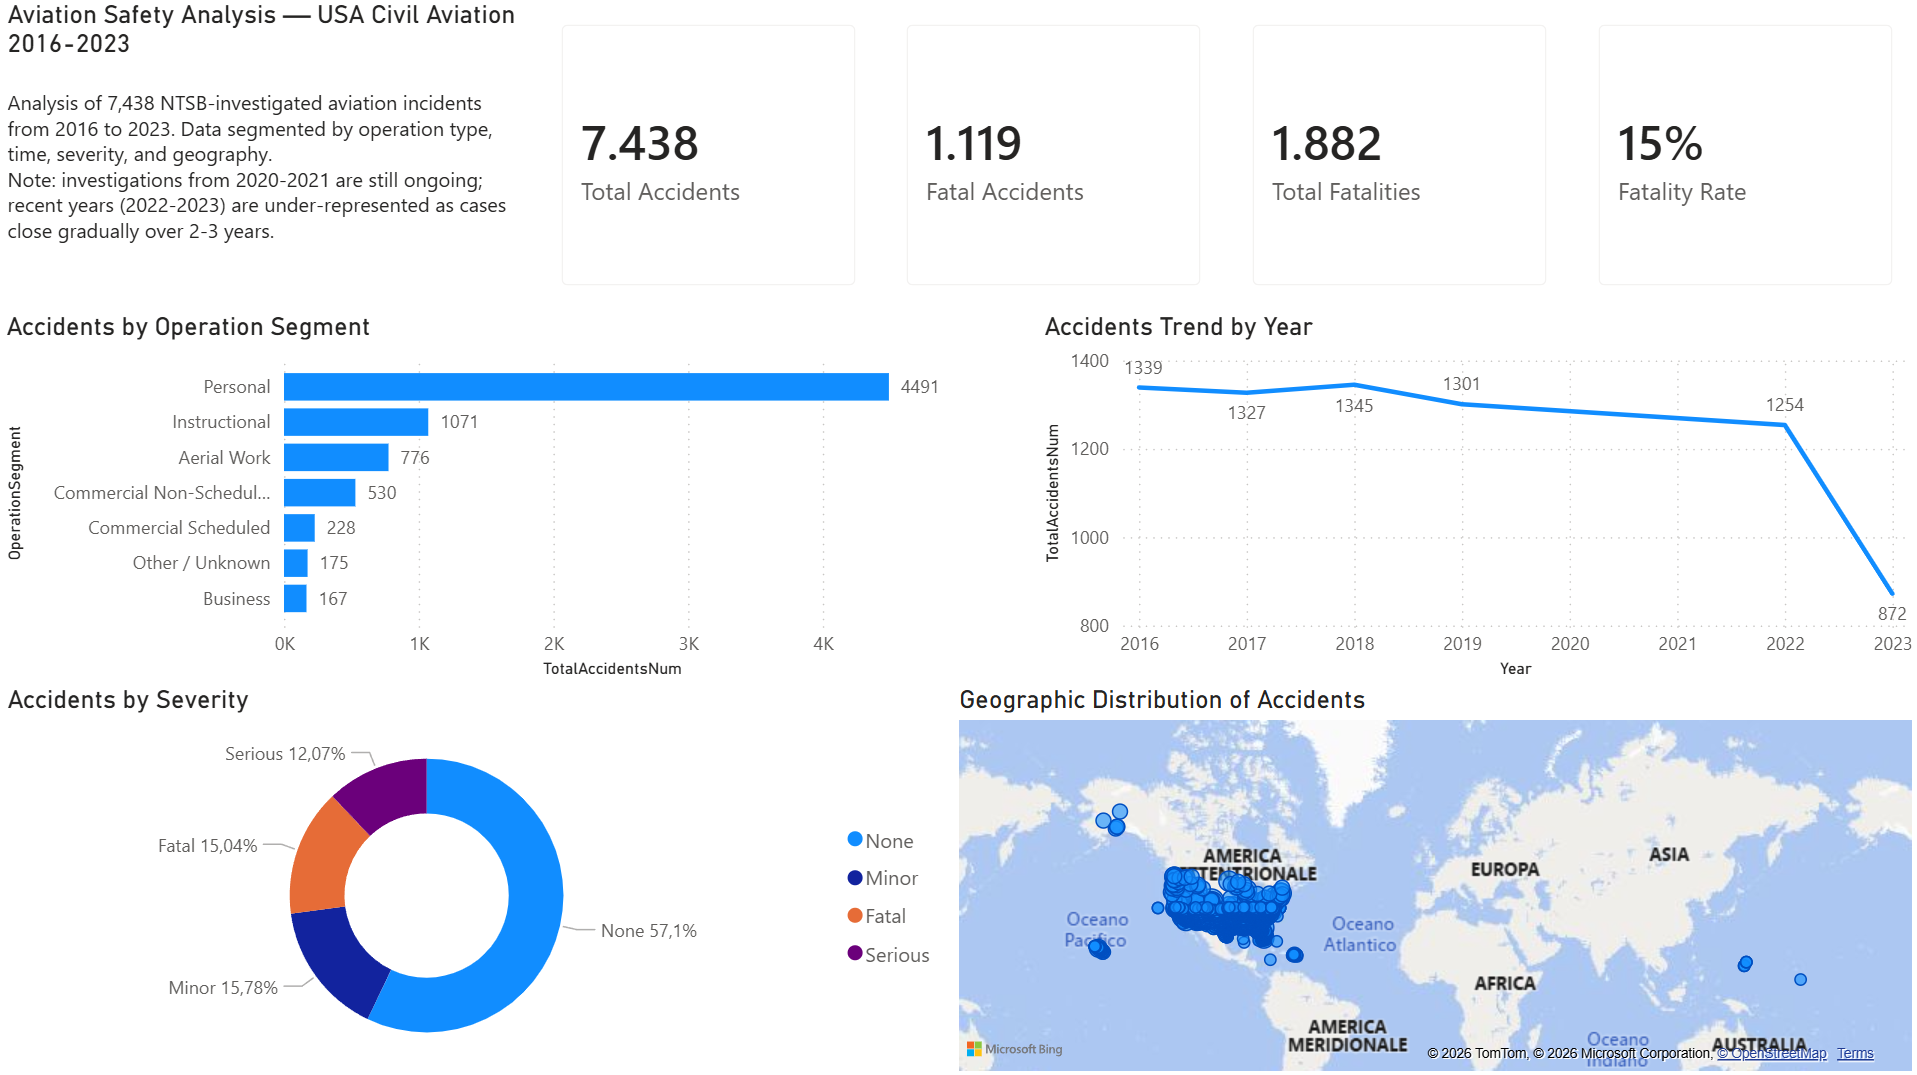

The dashboard page shown, as its layout file describes it:
{"tool":"powerbi","page":{"name":"Pagina 1","canvas":[1280,720],"ordinal":0},"visuals":[{"type":"cardVisual","fields":{"Data":["aviation_clean.Total Accidents"]},"box":[358,0.2,230.3,208.1],"z":0},{"type":"cardVisual","fields":{"Data":["aviation_clean.Fatal Accidents"]},"box":[588.3,0.2,230.3,208.1],"z":1000},{"type":"cardVisual","fields":{"Data":["aviation_clean.Total Fatalities"]},"box":[818.7,0,230.3,208.1],"z":2000},{"type":"cardVisual","fields":{"Data":["aviation_clean.Fatality Rate"]},"box":[1049.7,0,230.3,208.1],"z":3000},{"type":"clusteredBarChart","title":"Accidents by Operation Segment","fields":{"Category":["aviation_clean.OperationSegment"],"Y":["aviation_clean.TotalAccidentsNum"]},"box":[0,208.1,640,248.7],"z":4000},{"type":"lineChart","title":"Accidents Trend by Year","fields":{"Category":["aviation_clean.Year"],"Y":["aviation_clean.TotalAccidentsNum"]},"box":[691.7,208.1,588.3,248.7],"z":5000},{"type":"donutChart","title":"Accidents by Severity","fields":{"Category":["aviation_clean.HighestInjuryLevel"],"Y":["aviation_clean.TotalAccidentsNum"]},"box":[0.7,456.8,634.8,263.1],"z":6000},{"type":"map","title":"Geographic Distribution of Accidents","fields":{"Y":["aviation_clean.Latitude"],"X":["aviation_clean.Longitude"],"Size":["aviation_clean.TotalAccidentsNum"]},"box":[635.4,456.8,644.6,263.1],"z":7000},{"type":"textbox","title":"Aviation Safety Analysis — USA Civil Aviation 2016-2023","box":[0.7,0,357.3,208],"z":7001}]}

Visuals, with their boxes in screenshot pixels (x1, y1, x2, y2), scaled from the page's 1280x720 canvas onto the 1917x1075 screenshot:
cardVisual - aviation_clean.Total Accidents: 536,0,881,311
cardVisual - aviation_clean.Fatal Accidents: 881,0,1226,311
cardVisual - aviation_clean.Total Fatalities: 1226,0,1571,311
cardVisual - aviation_clean.Fatality Rate: 1572,0,1916,311
"Accidents by Operation Segment" clusteredBarChart: 0,311,958,682
"Accidents Trend by Year" lineChart: 1036,311,1916,682
"Accidents by Severity" donutChart: 1,682,952,1074
"Geographic Distribution of Accidents" map: 952,682,1916,1074
"Aviation Safety Analysis — USA Civil Aviation 2016-2023" textbox: 1,0,536,311
